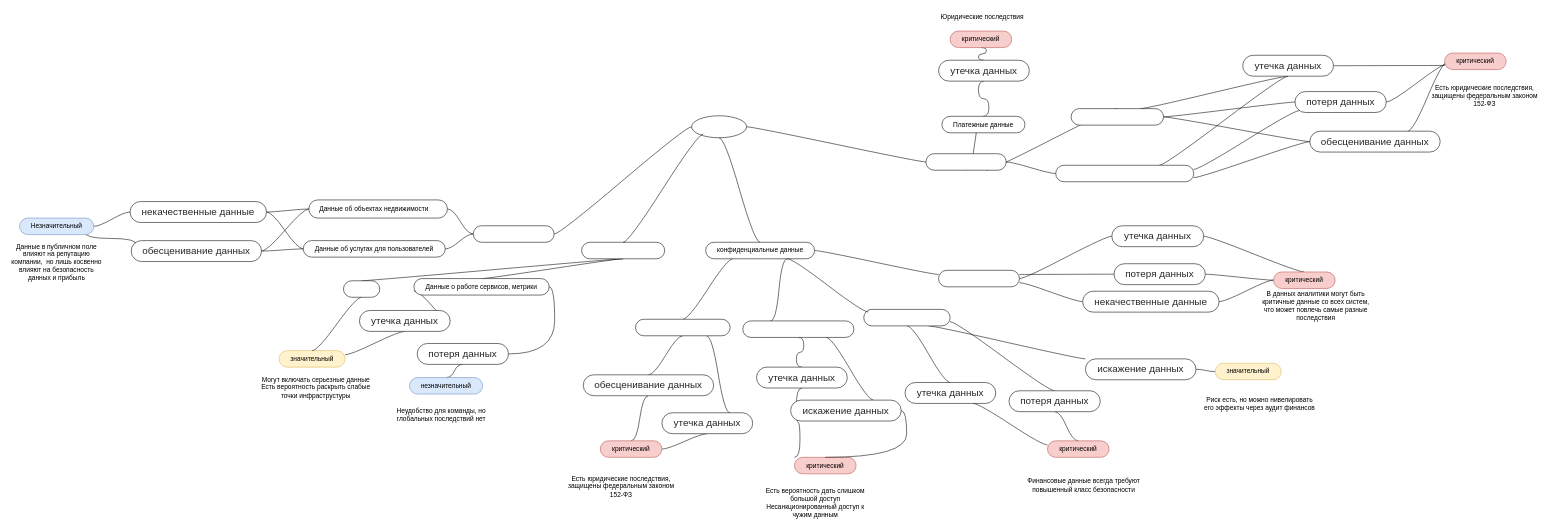
Some shapes in this 1553 by 532 pixel diagram are drawn without their labels. Each missing label, with the box of its shape:
Безопасность данных: (691, 115, 747, 138)
внутренние данные: (581, 242, 665, 259)
Данные аналитики: (938, 270, 1019, 287)
Данные для государственных систем: (1055, 165, 1194, 182)
Данные пользователей: (635, 319, 730, 336)
Данные систем авторизации: (742, 320, 854, 337)
Документы пользователя: (1071, 108, 1164, 125)
Логи: (343, 280, 380, 297)
публичные данные: (473, 225, 554, 242)
секретные данные: (925, 153, 1006, 170)
Финансовые данные: (863, 309, 950, 326)
